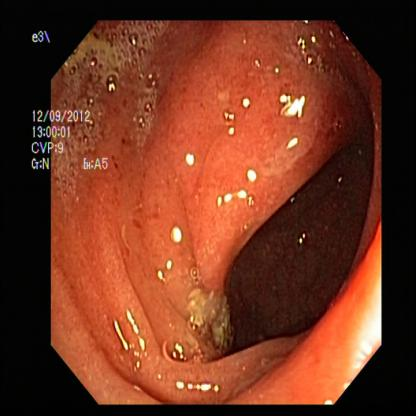Labels: (32, 28, 110, 179)
Polyps: (192, 97, 316, 247)
